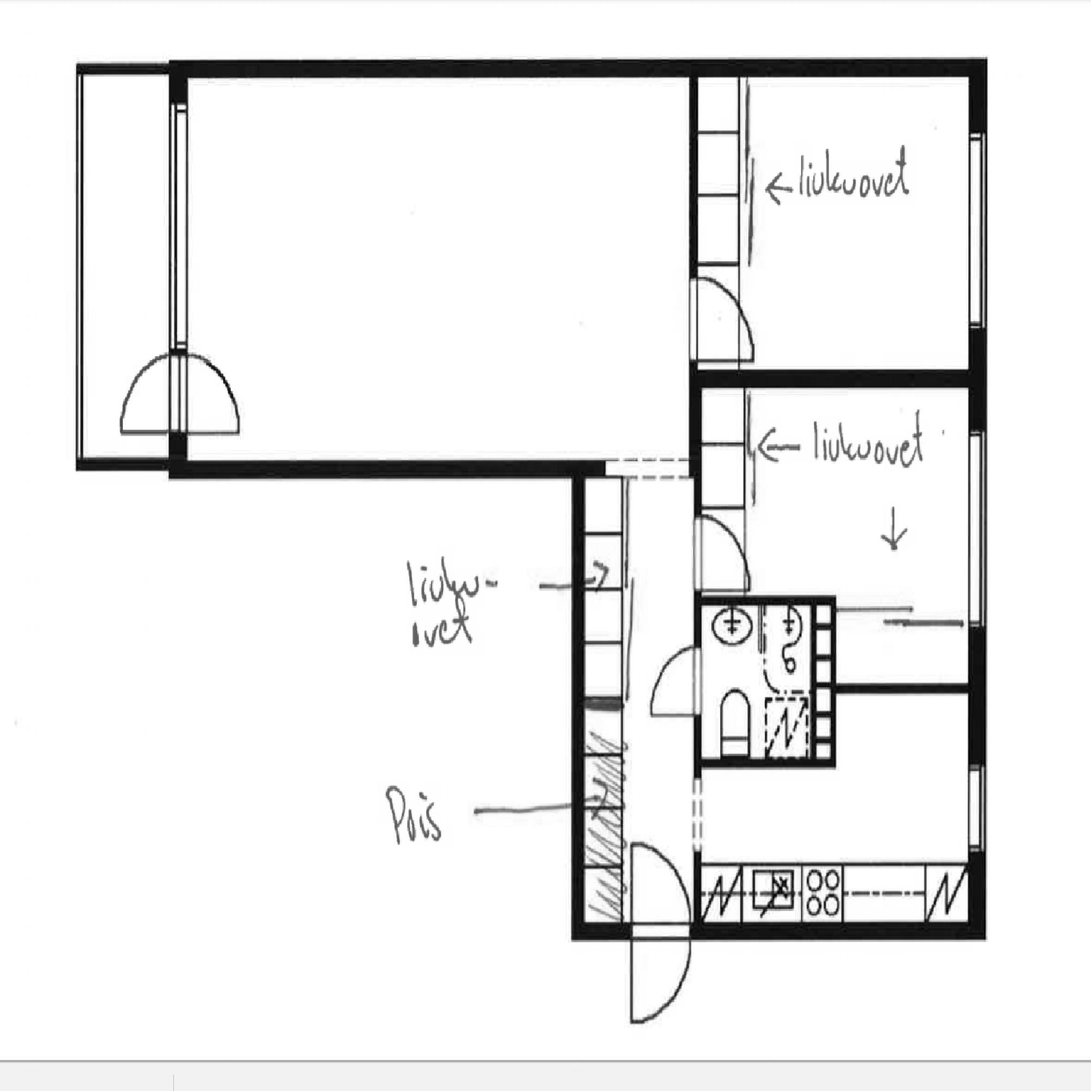wall: (968, 59, 987, 939), (169, 59, 987, 76), (169, 59, 188, 477), (169, 459, 585, 477), (572, 921, 987, 939), (572, 459, 585, 939), (689, 369, 968, 388), (810, 596, 835, 768), (694, 459, 702, 921), (690, 76, 698, 369), (585, 459, 702, 478), (689, 369, 702, 478), (75, 62, 169, 77), (75, 456, 169, 470), (835, 684, 968, 693), (702, 596, 810, 605), (702, 759, 810, 768), (585, 699, 622, 707)
